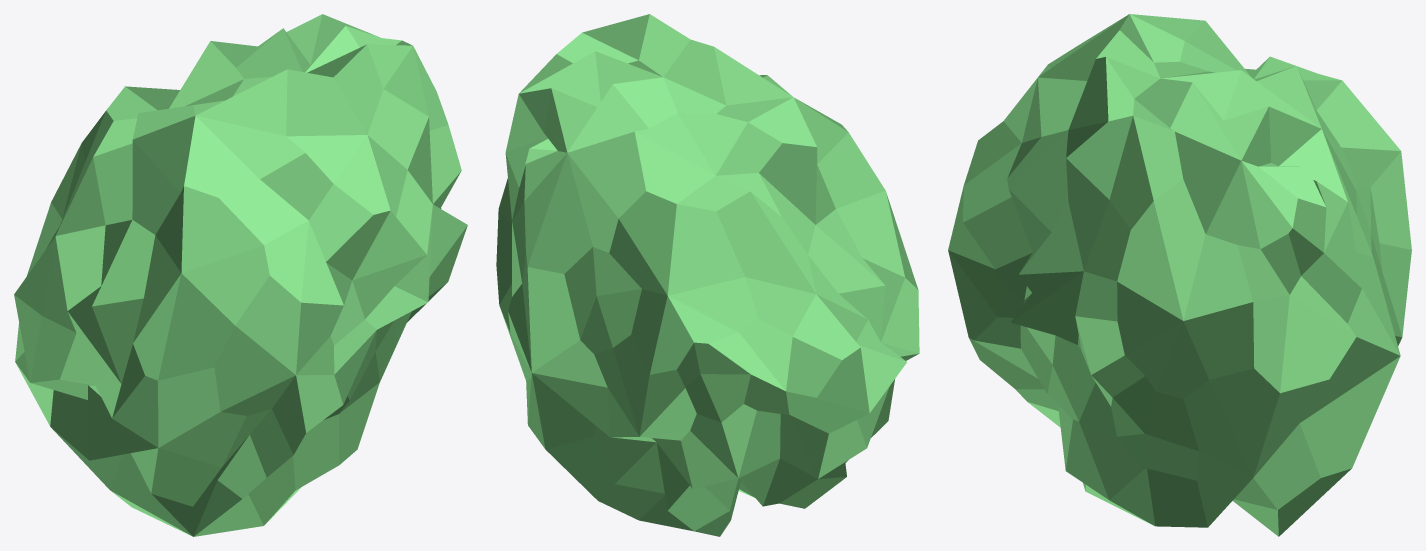
Rendered from buisson_01_lowpoly.fbx.
3 renders of one model, left to right at view 1: azimuth 30°, elevation 25°; view 2: azimuth 150°, elevation 25°; view 3: azimuth 270°, elevation 25°, orthographic. The views are drawn at different scales.
Visible parts, largest first — view 1: Icosphere.009; view 2: Icosphere.009; view 3: Icosphere.009.
Boxes of the visible parts, <box> form: Icosphere.009: <box>14,14,467,536</box>; Icosphere.009: <box>496,14,919,536</box>; Icosphere.009: <box>948,14,1411,536</box>.
Bounding box in the file's own units: 2.09 × 1.94 × 2.38.
